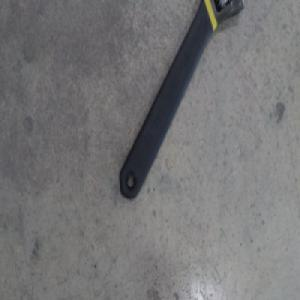AdjustableWrench: (118, 0, 234, 199)
